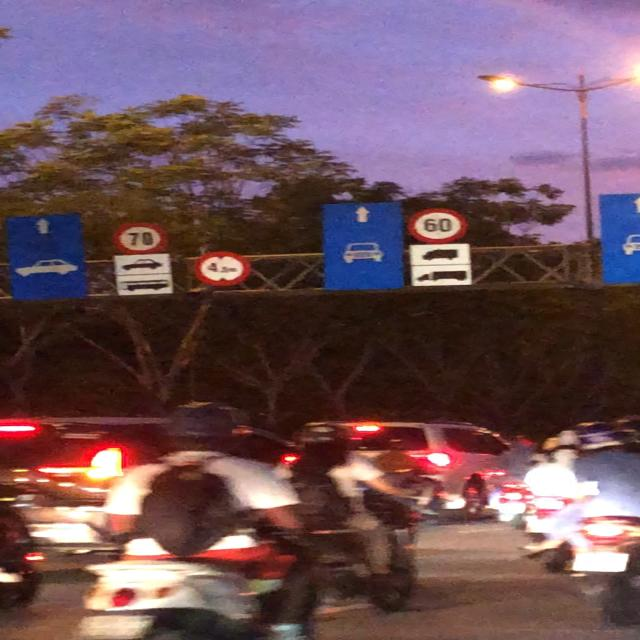Bien bao han che chieu cao: (191, 249, 253, 289)
Bien bao toc do toi da cho phep: (397, 205, 471, 245), (110, 219, 174, 257)
